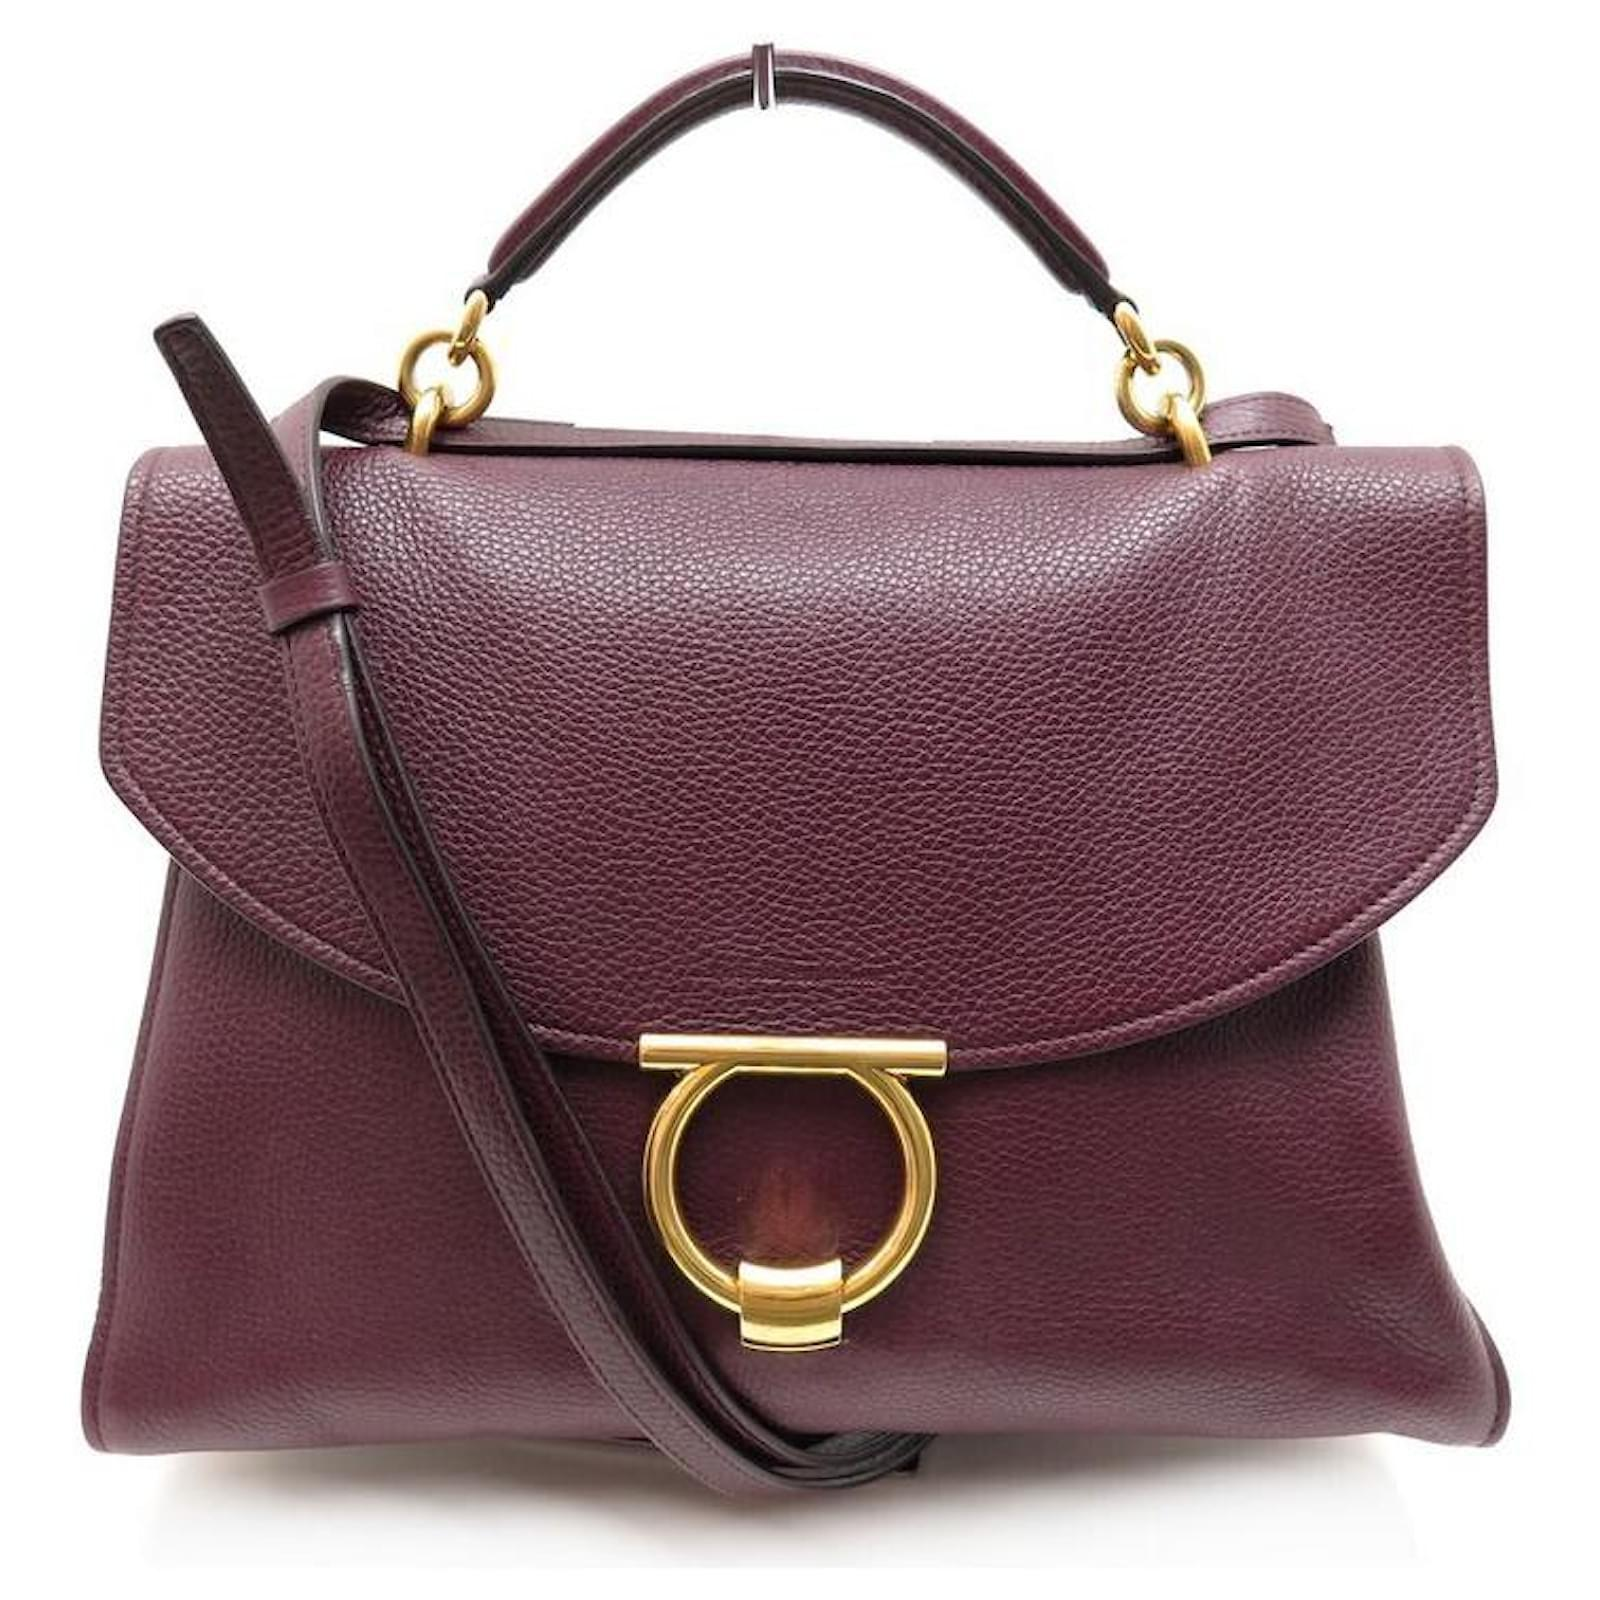FERRAGAMO: (567, 971, 1001, 1352)
